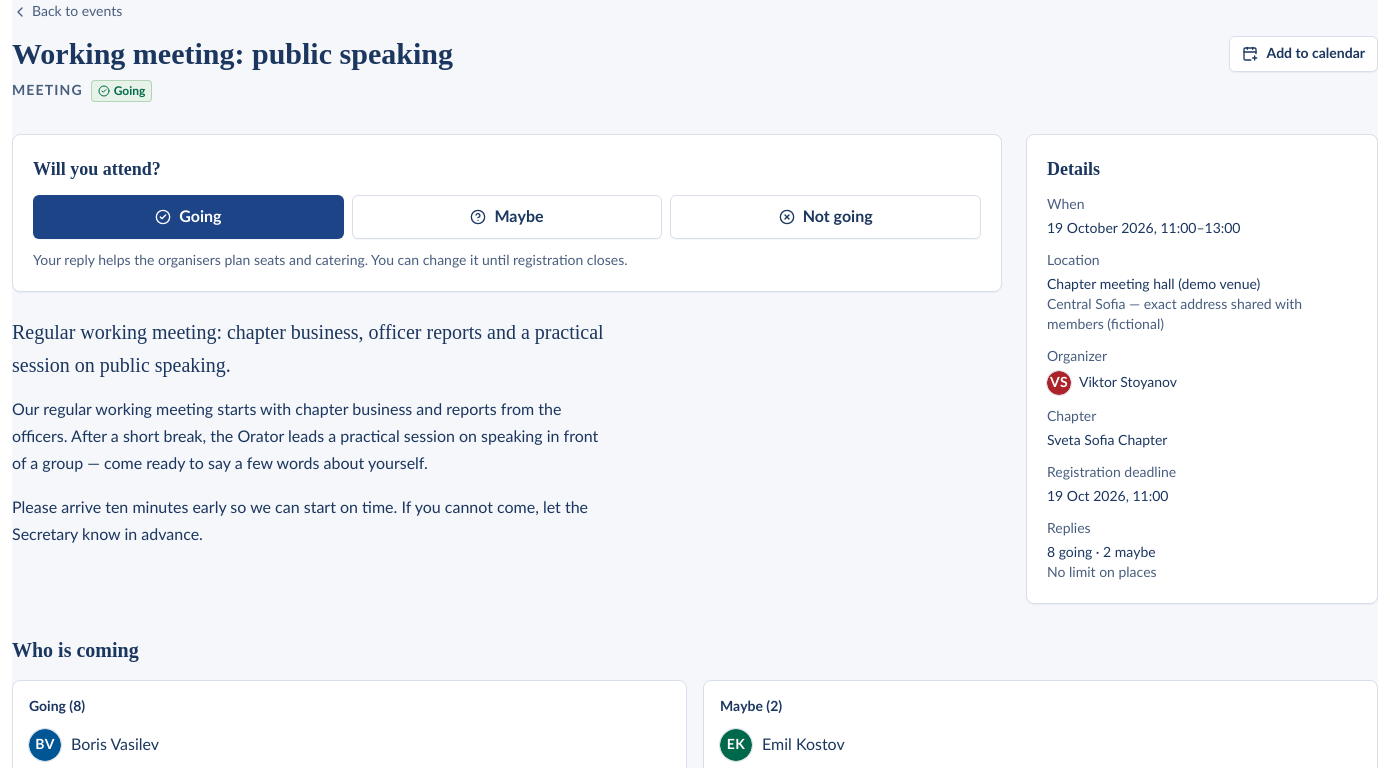
Test case: EventDetailPage › changes the reply and confirms it
The width and height of the screenshot is (1390, 768).
Click the button "Maybe" at (507, 217), box [352,195,662,239]
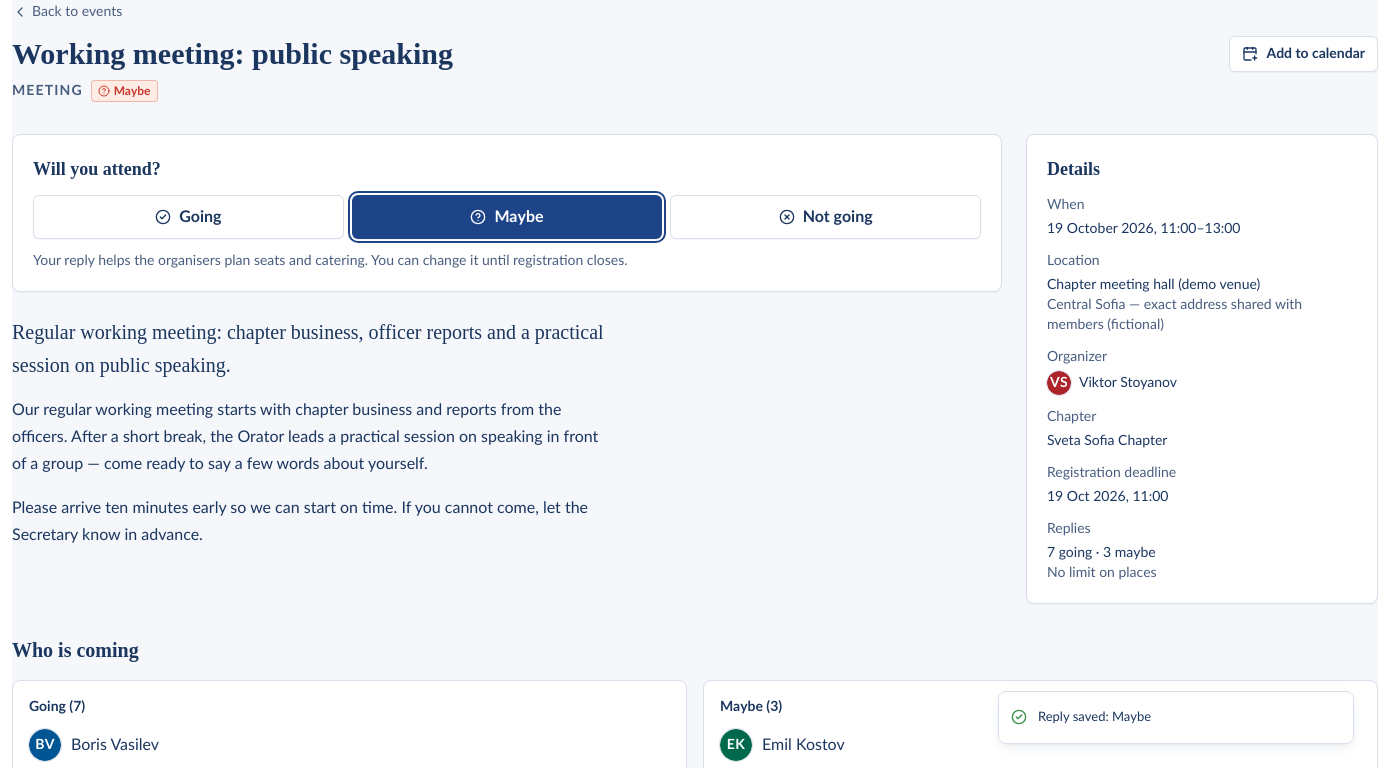
Now the text "Reply saved: Maybe" is shown, box [1038,708,1151,727]
